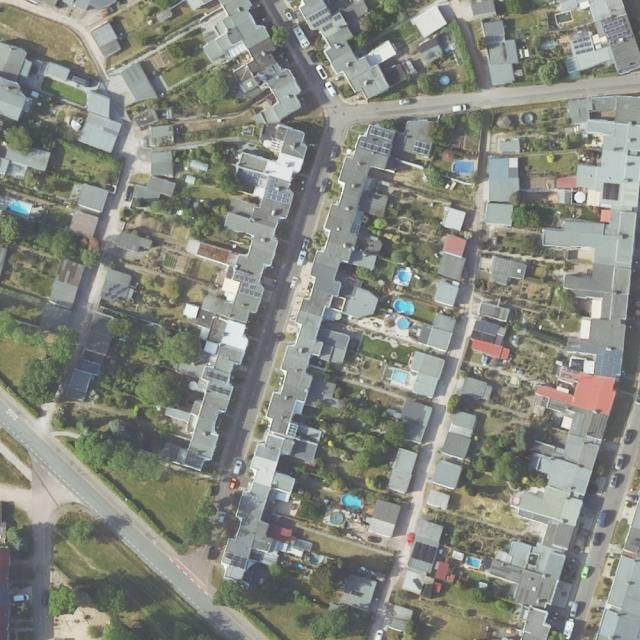PV: (602, 15, 633, 45), (359, 127, 390, 155), (307, 7, 341, 32), (231, 273, 259, 298), (266, 177, 290, 203), (411, 541, 436, 563), (237, 167, 259, 186), (571, 36, 593, 54), (104, 283, 125, 299), (205, 370, 228, 382), (412, 140, 429, 155), (209, 384, 231, 394)
